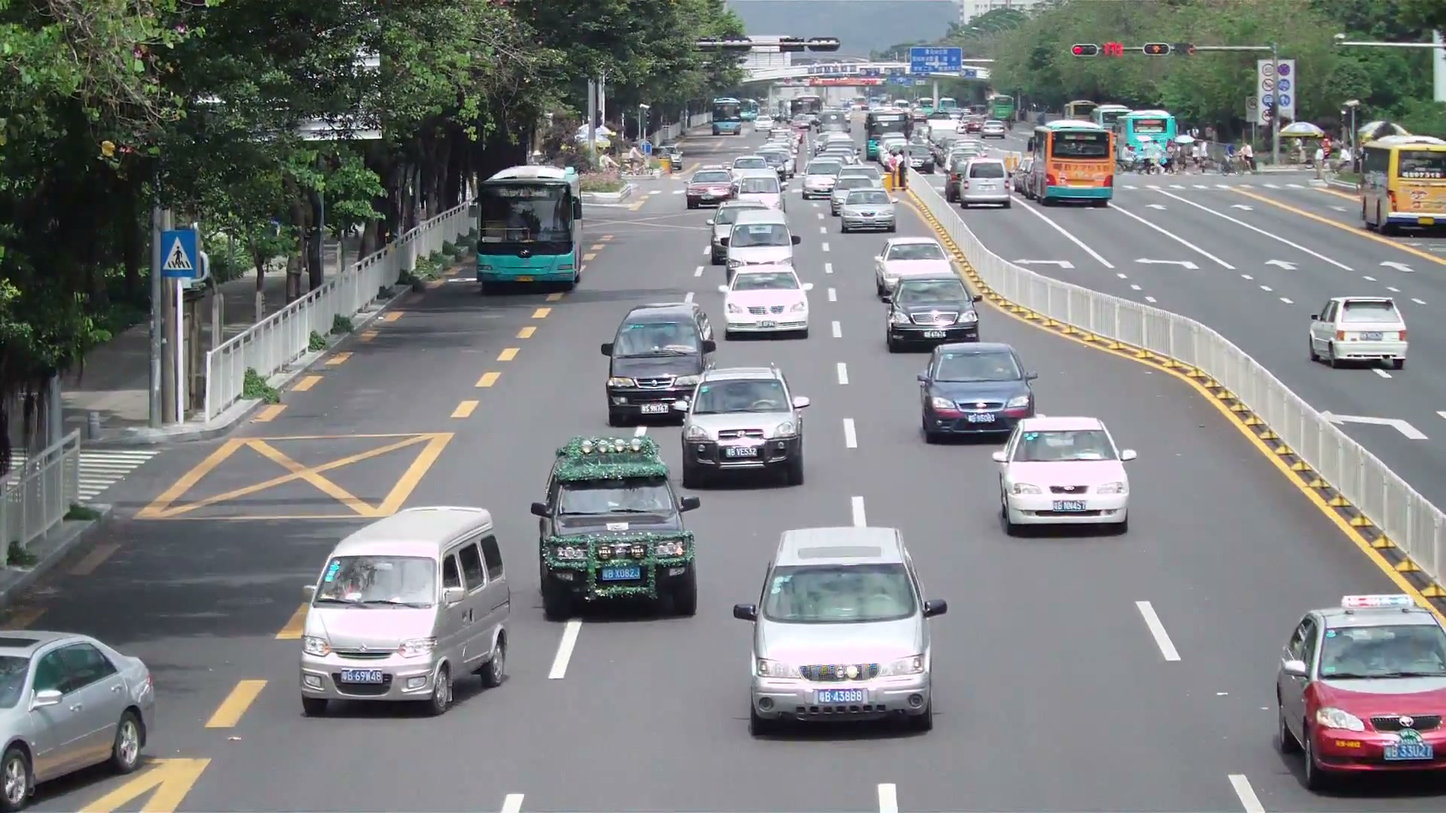bus: (476, 163, 583, 294), (1023, 118, 1117, 206), (1090, 107, 1177, 172)
car: (297, 504, 512, 717), (734, 526, 947, 737), (1272, 595, 1445, 793), (530, 434, 700, 621), (1, 628, 156, 807), (993, 415, 1134, 537), (680, 364, 809, 489), (600, 302, 717, 425), (915, 340, 1038, 444), (1308, 293, 1410, 370), (885, 274, 981, 352), (720, 261, 812, 342), (872, 236, 953, 301), (836, 186, 898, 233), (684, 163, 739, 209)
truck: (297, 504, 512, 716), (529, 434, 699, 621), (1357, 129, 1445, 234), (1018, 120, 1115, 207)
